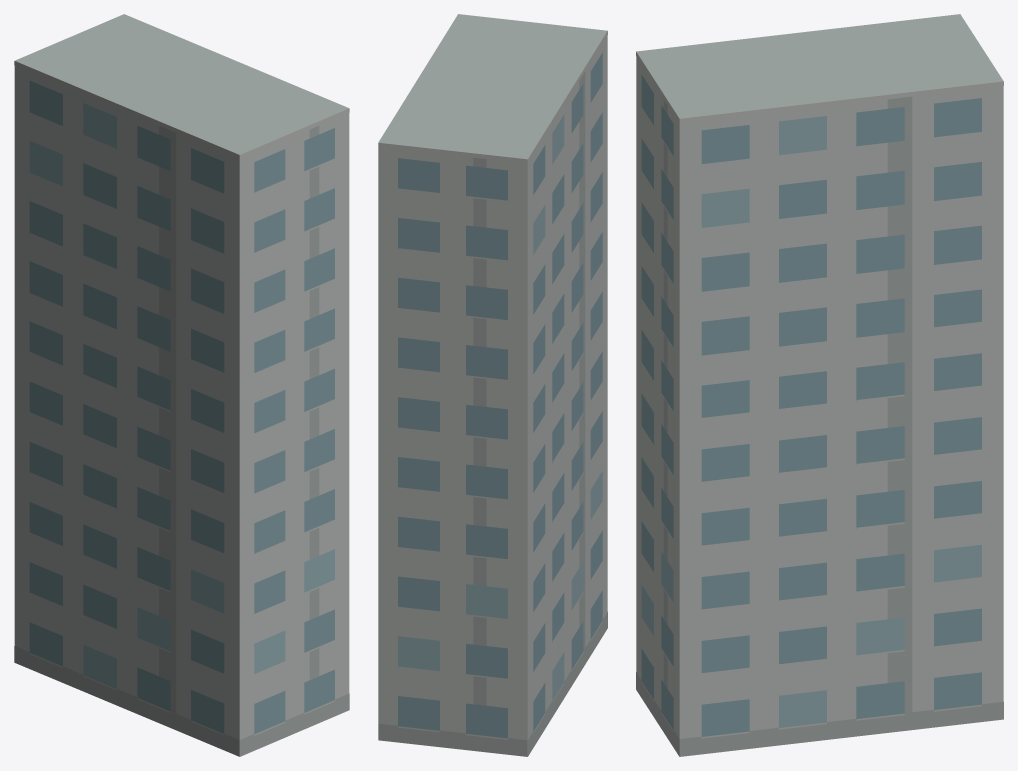
The model's file is residential-773d4a62-383c-4924-b3a2-452ff1d9f16a.glb.
The picture shows the model from 3 angles, left to right: view 1: azimuth 30°, elevation 25°; view 2: azimuth 150°, elevation 25°; view 3: azimuth 270°, elevation 25°; orthographic projection. The views are drawn at different scales.
Visible parts, largest first — view 1: residential-773d4a62-383c-4924-b3a2-452ff1d9f16a.tmp; view 2: residential-773d4a62-383c-4924-b3a2-452ff1d9f16a.tmp; view 3: residential-773d4a62-383c-4924-b3a2-452ff1d9f16a.tmp.
Part boxes in pixels (x1,y1,x2,y2): residential-773d4a62-383c-4924-b3a2-452ff1d9f16a.tmp: (14,14,349,756); residential-773d4a62-383c-4924-b3a2-452ff1d9f16a.tmp: (378,14,607,756); residential-773d4a62-383c-4924-b3a2-452ff1d9f16a.tmp: (636,14,1003,756).
Size of the model in its own units: 11.63 by 33 by 17.24.
